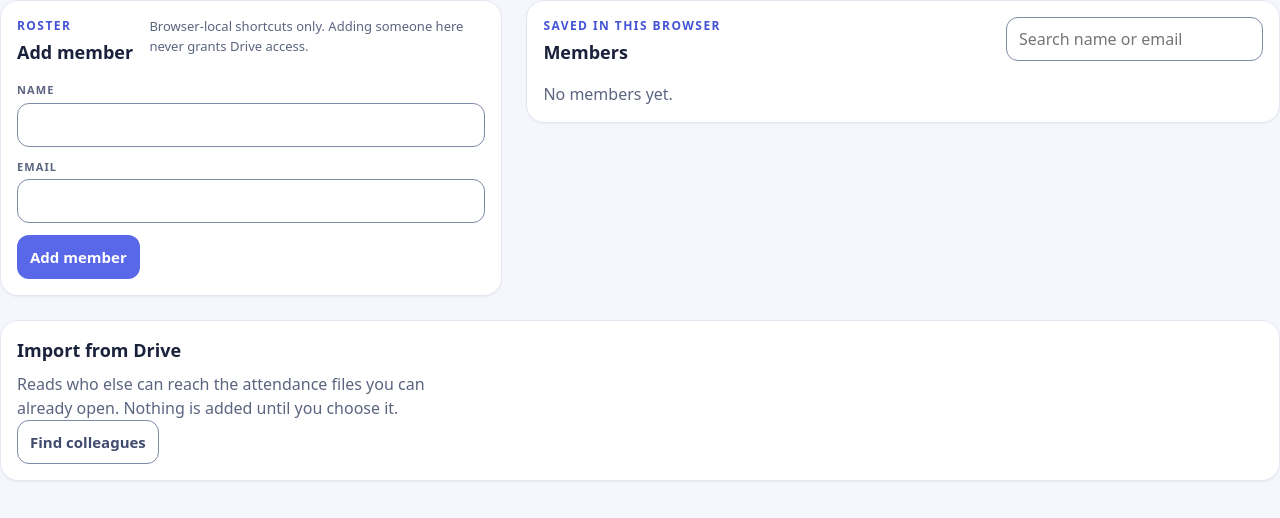
Test: MemberRoster › refuses an address that is not one
Type "THAI GIA HAN" into the field labelled "Name" at (251, 124), box [17, 102, 485, 146]
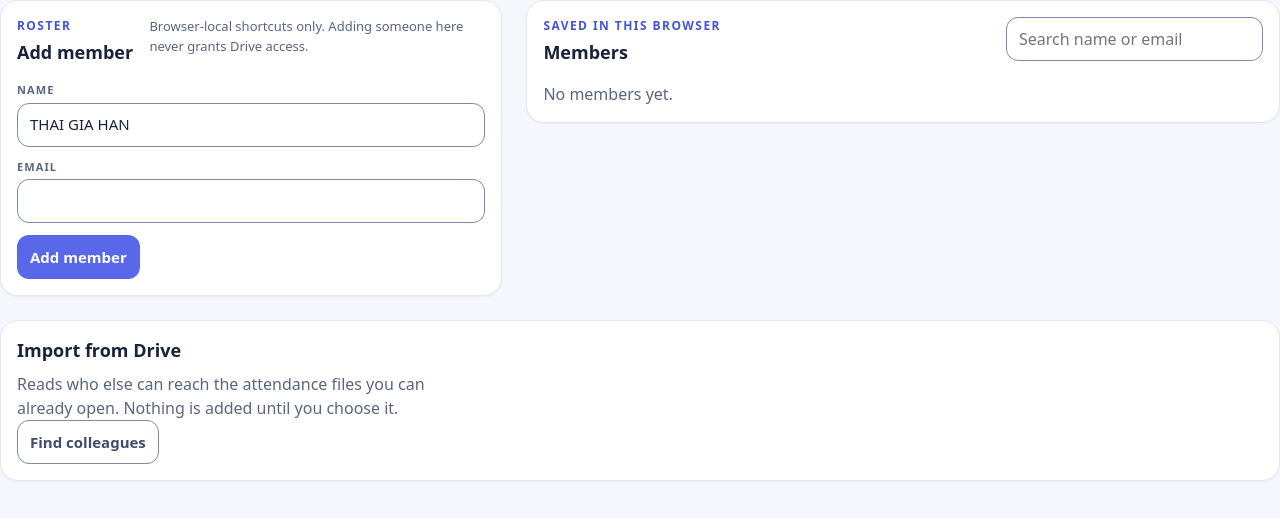
Type "han.tg" into the field labelled "Email" at (251, 201), box [17, 179, 485, 223]
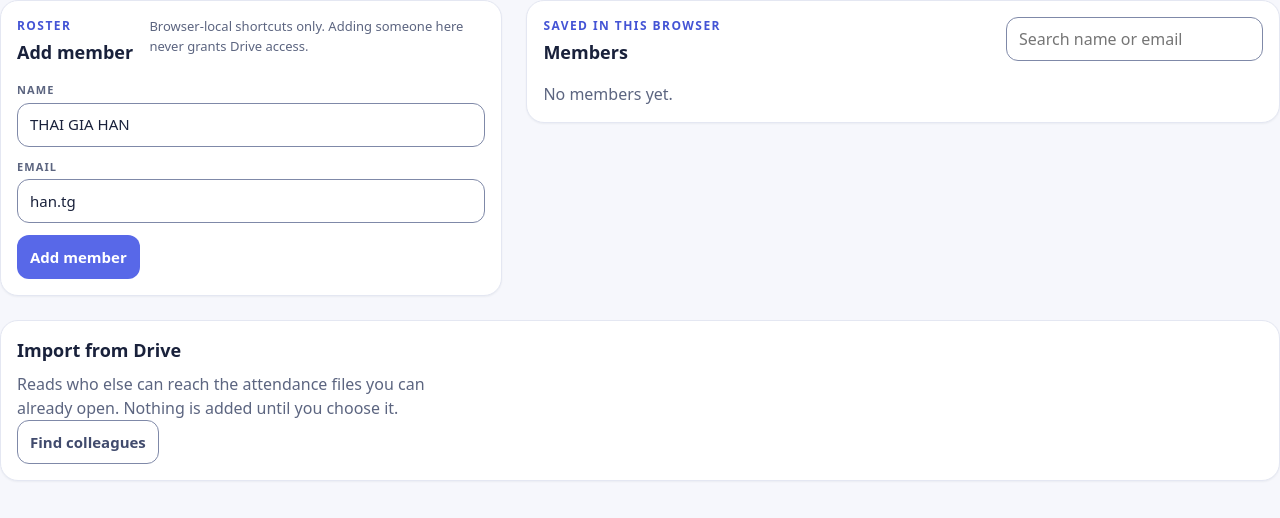
Click the button "Add member" at (78, 257), box [17, 235, 140, 279]
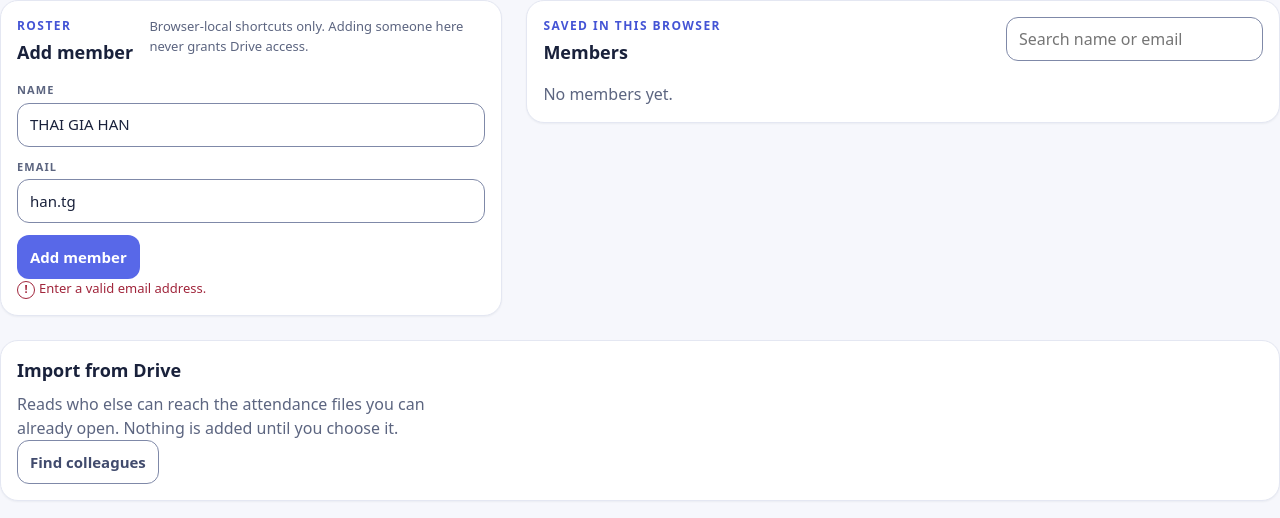
Result: the message reads "Enter a valid email address." at [39, 279, 206, 297]
